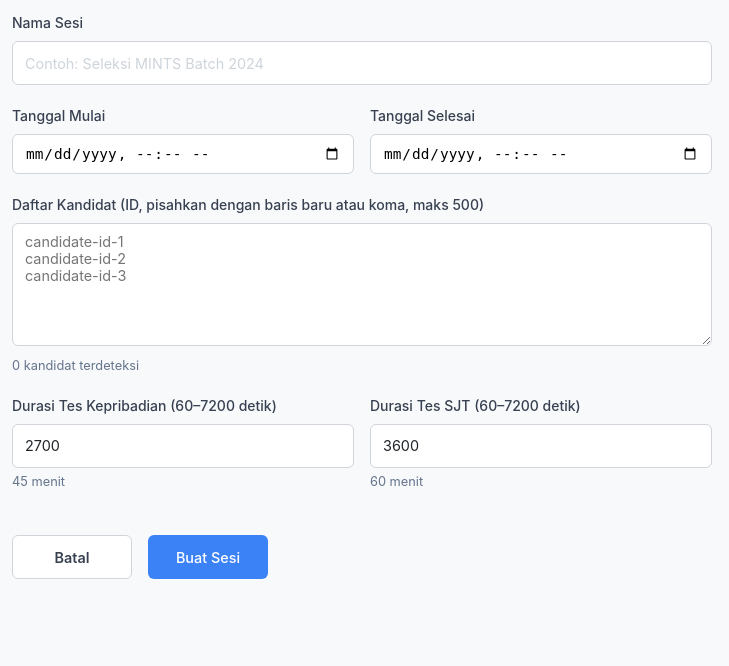
Test case: SessionCreationForm › shows validation errors for empty form submission
What coordinates should you click on to do the following:
click the button "Buat Sesi"
I would click on:
 (208, 557)
Its box is [148,535,268,579].
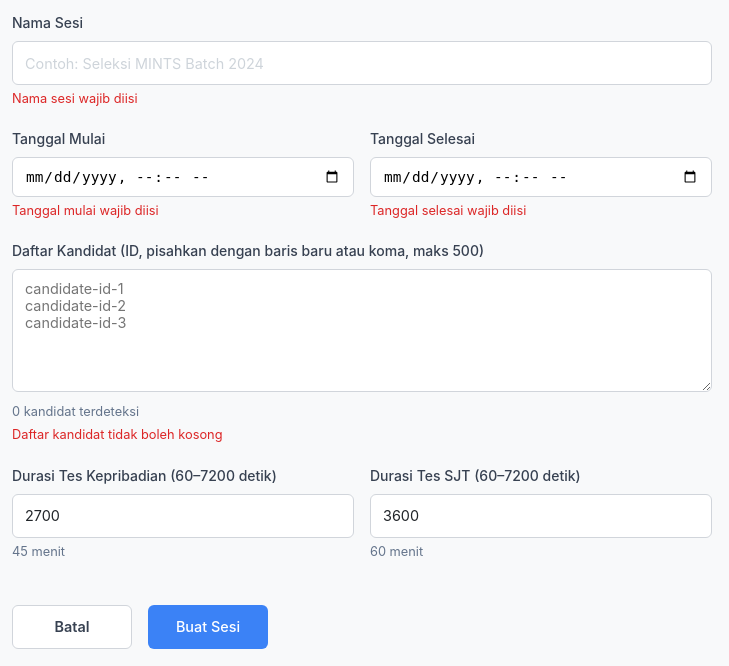
Check: the text "Nama sesi wajib diisi" is shown, box [12,91,138,106]
Check: the text "Tanggal mulai wajib diisi" is shown, box [12,203,159,218]
Check: the text "Tanggal selesai wajib diisi" is shown, box [370,203,526,218]
